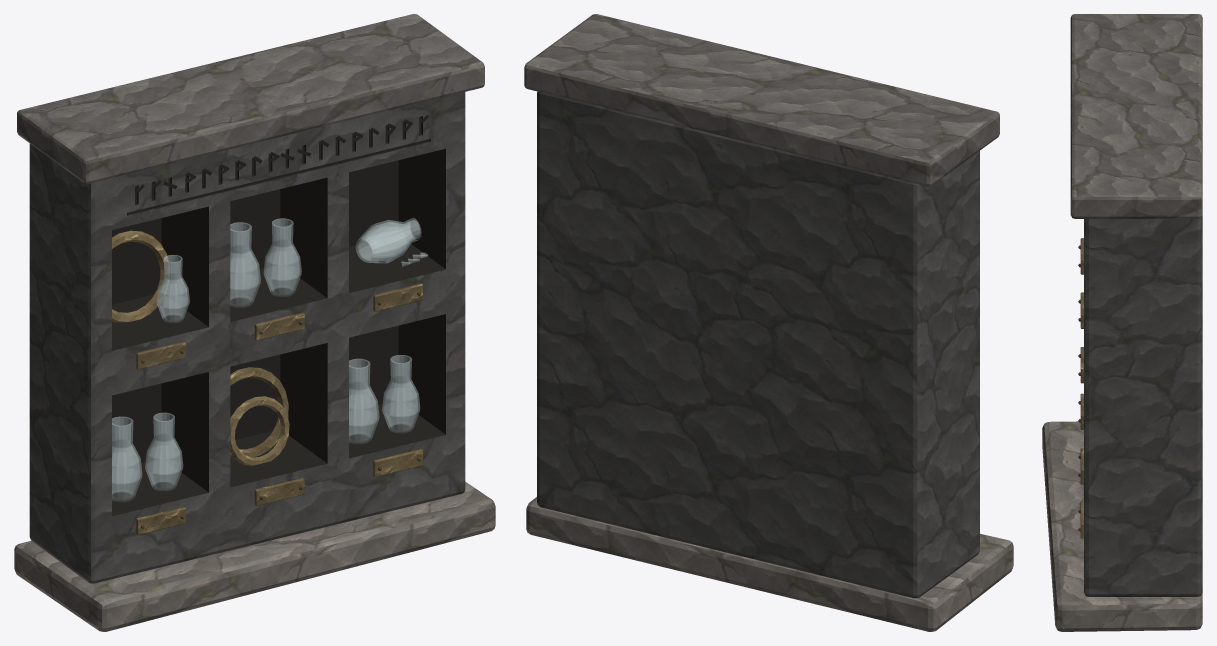
Rendered from rs_chimney_rack.glb.
The picture shows the model from 3 angles, left to right: view 1: azimuth 30°, elevation 25°; view 2: azimuth 150°, elevation 25°; view 3: azimuth 270°, elevation 25°; orthographic projection. The views are drawn at different scales.
Parts seen in each view (by area): view 1: model; view 2: model; view 3: model.
Part boxes in pixels (<box>): model: <box>14,14,495,631</box>; model: <box>524,14,1013,631</box>; model: <box>1042,14,1202,631</box>.
Size of the model in its own units: 1.34 by 1.46 by 0.4864.
19 materials, 6 textured.
